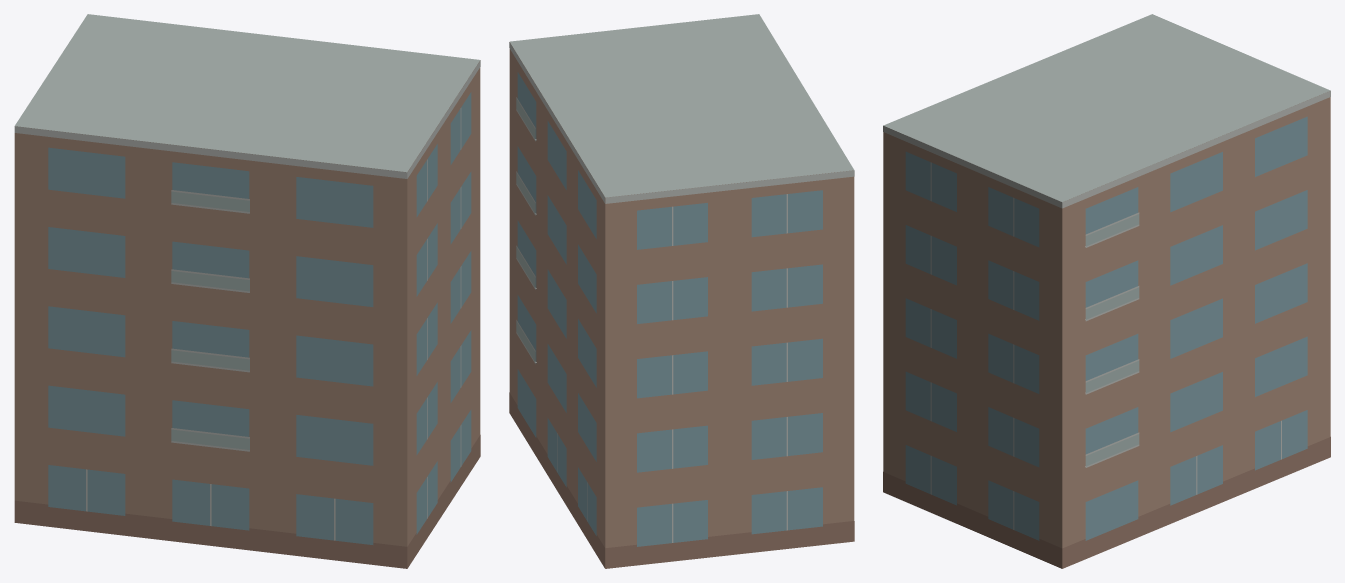
The model's file is survey-upis-32849465.glb.
3 renders of one model, left to right at view 1: azimuth 30°, elevation 25°; view 2: azimuth 150°, elevation 25°; view 3: azimuth 270°, elevation 25°, orthographic. The views are drawn at different scales.
Visible parts, largest first — view 1: survey-upis-32849465.tmp; view 2: survey-upis-32849465.tmp; view 3: survey-upis-32849465.tmp.
Boxes of the visible parts, x1,y1,x2,y2 form: survey-upis-32849465.tmp: (14,14,480,568); survey-upis-32849465.tmp: (509,14,854,568); survey-upis-32849465.tmp: (883,14,1330,568).
Bounding box in the file's own units: 15.64 × 14.2 × 15.72.
